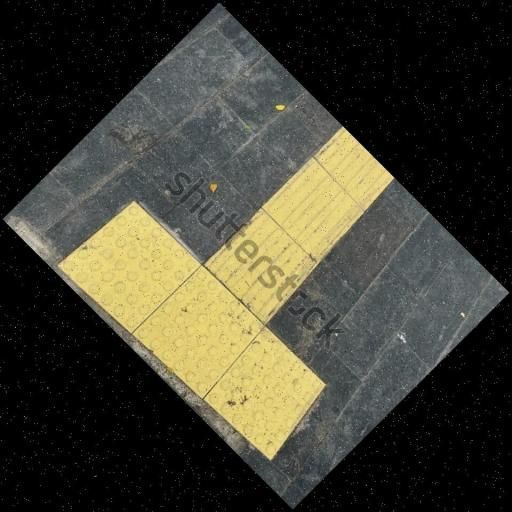dot: (55, 202, 200, 333), (132, 268, 264, 399), (207, 326, 325, 459)
line: (201, 208, 318, 326), (263, 157, 365, 264), (314, 126, 394, 209)
